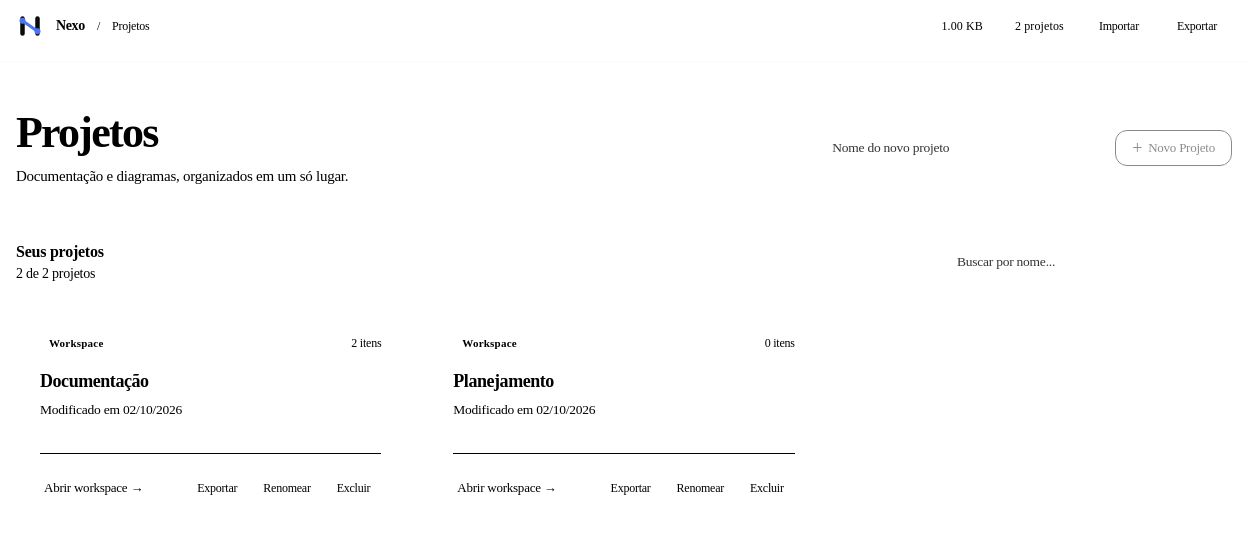
Test: fluxo de projetos › preserva a edição e permite tentar novamente quando renomear falha
Click the 1st button "Renomear" at [287, 488], box x1=252 y1=472 x2=322 y2=504
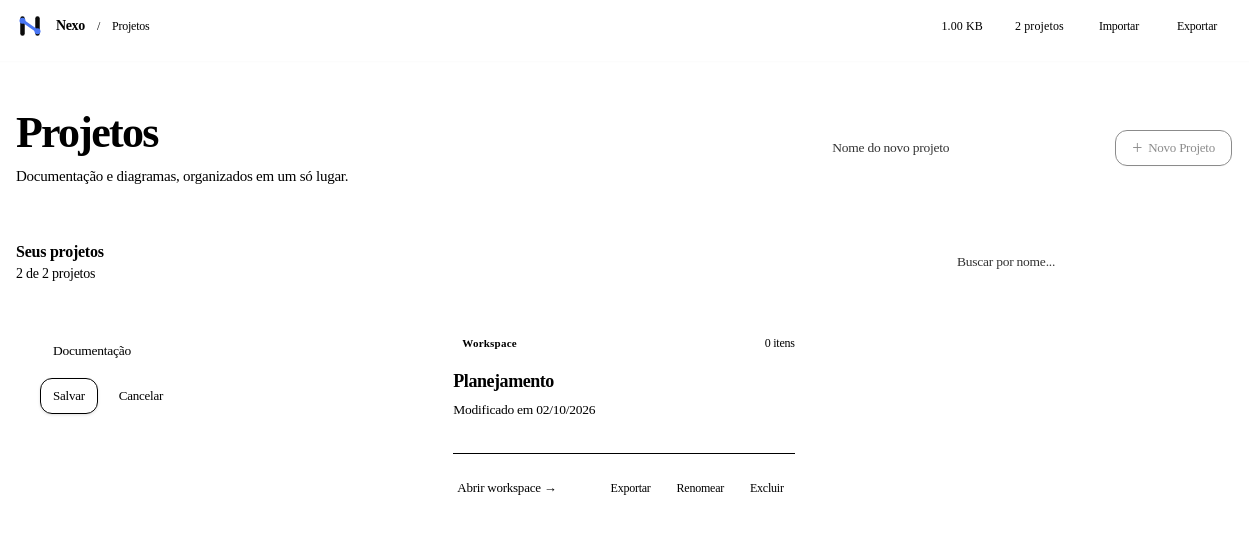
Replace the text in the field named "Nome do projeto" with "Novo nome" at [211, 351], box x1=40 y1=332 x2=381 y2=370
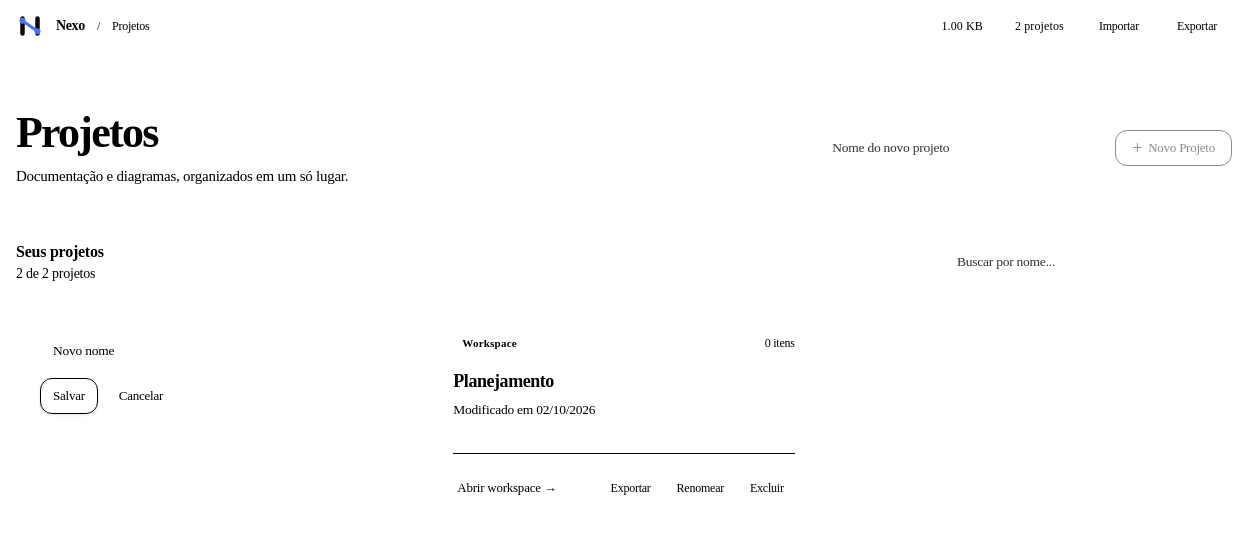
Click the button "Salvar" at [69, 396], box x1=40 y1=378 x2=98 y2=414
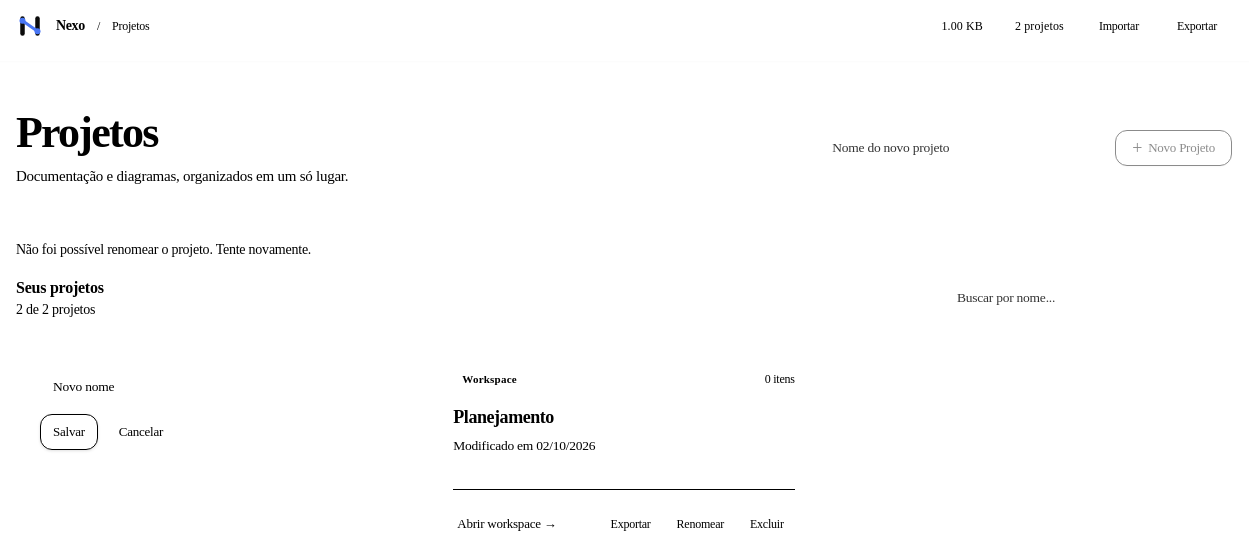
expect the message "Não foi possível renomear o projeto. Tente novamente." is shown: met, box x1=16 y1=242 x2=311 y2=257
Click the button "Salvar" at [69, 432], box x1=40 y1=414 x2=98 y2=450
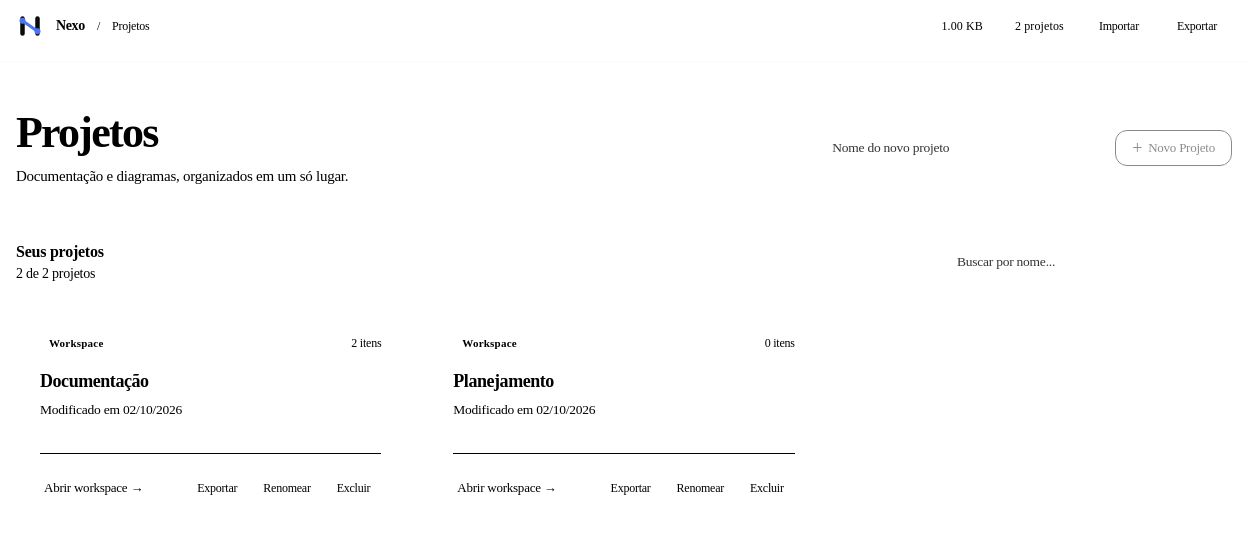
expect the message "Não foi possível renomear o projeto. Tente novamente." is gone: met
